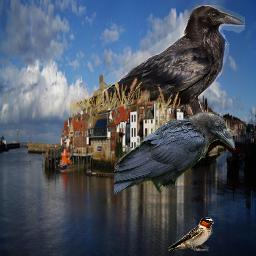Crow: (70, 5, 245, 136), (114, 111, 236, 195)
Swallow: (168, 217, 214, 251)
